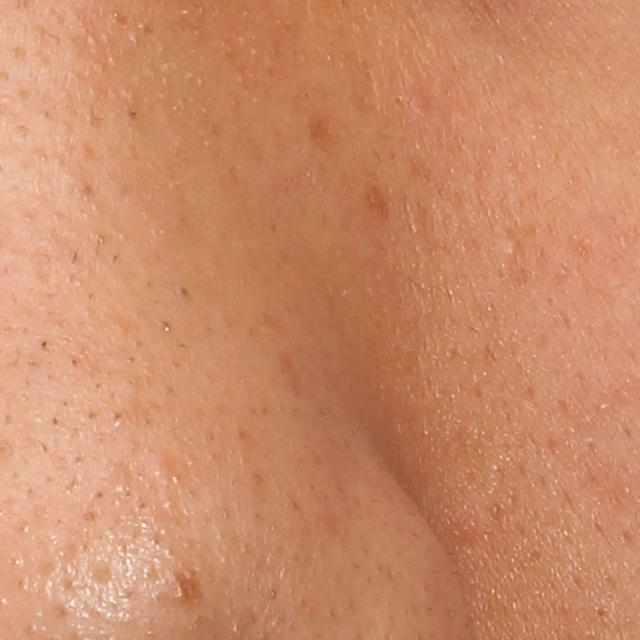comedo: (501, 238, 520, 257)
melasma: (299, 111, 345, 164), (353, 177, 401, 225)
nevus: (164, 568, 208, 609)
